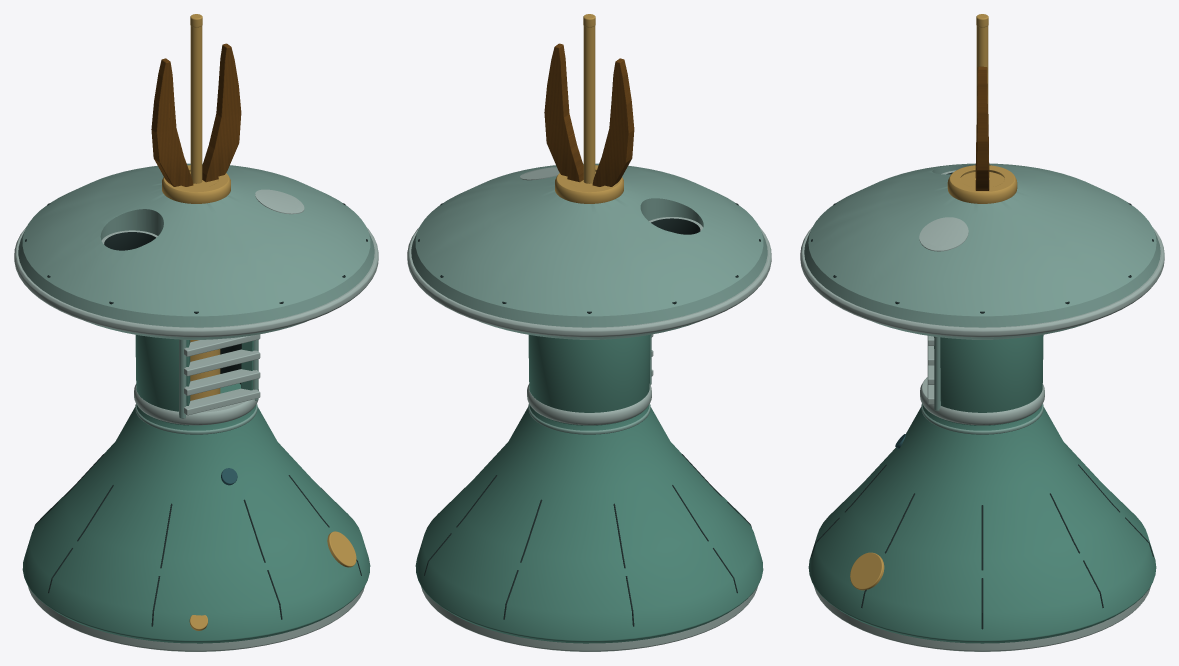
The picture shows the model from 3 angles, left to right: view 1: azimuth 30°, elevation 25°; view 2: azimuth 150°, elevation 25°; view 3: azimuth 270°, elevation 25°; orthographic projection.
Visible parts, largest first — view 1: CPU flared waisted foundation, CPU broad upper saucer, CPU saucer perimeter machined rim, CPU neck with actual grille opening, RI01 refined crown arm right, RI01 refined crown arm left, CPU foundation ground lip, CPU crown central conductor, CPU lower neck collar, CPU crown brass seating ring, CPU grille horizontal structural fin, CPU grille horizontal structural fin.002 (+8 smaller); view 2: CPU flared waisted foundation, CPU broad upper saucer, CPU neck with actual grille opening, CPU saucer perimeter machined rim, RI01 refined crown arm right, RI01 refined crown arm left, CPU foundation ground lip, CPU crown central conductor, CPU lower neck collar, CPU crown brass seating ring, CPU roof well inner sleeve, CPU foundation upper seam; view 3: CPU flared waisted foundation, CPU broad upper saucer, CPU neck with actual grille opening, CPU saucer perimeter machined rim, CPU foundation ground lip, CPU lower neck collar, CPU crown brass seating ring, RI01 refined crown arm right, CPU pale conformal roof service cap, CPU foundation circular service cap, CPU crown central conductor, CPU foundation upper seam.
Part boxes in pixels (x1=…): CPU flared waisted foundation: x1=22, y1=383, x2=370, y2=643; CPU broad upper saucer: x1=18, y1=163, x2=374, y2=339; CPU saucer perimeter machined rim: x1=14, y1=226, x2=378, y2=337; CPU neck with actual grille opening: x1=135, y1=335, x2=253, y2=425; RI01 refined crown arm right: x1=202, y1=43, x2=241, y2=182; RI01 refined crown arm left: x1=151, y1=58, x2=193, y2=186; CPU foundation ground lip: x1=28, y1=586, x2=364, y2=651; CPU crown central conductor: x1=190, y1=26, x2=202, y2=183; CPU lower neck collar: x1=134, y1=384, x2=258, y2=425; CPU crown brass seating ring: x1=162, y1=165, x2=230, y2=203; CPU grille horizontal structural fin: x1=184, y1=388, x2=260, y2=415; CPU grille horizontal structural fin.002: x1=184, y1=349, x2=260, y2=376; CPU flared waisted foundation: x1=415, y1=405, x2=763, y2=643; CPU broad upper saucer: x1=411, y1=163, x2=767, y2=339; CPU neck with actual grille opening: x1=528, y1=334, x2=650, y2=425; CPU saucer perimeter machined rim: x1=407, y1=226, x2=771, y2=337; RI01 refined crown arm right: x1=544, y1=43, x2=583, y2=182; RI01 refined crown arm left: x1=592, y1=58, x2=634, y2=186; CPU foundation ground lip: x1=421, y1=586, x2=757, y2=651; CPU crown central conductor: x1=583, y1=26, x2=595, y2=183; CPU lower neck collar: x1=527, y1=384, x2=651, y2=425; CPU crown brass seating ring: x1=555, y1=165, x2=623, y2=203; CPU roof well inner sleeve: x1=649, y1=217, x2=702, y2=234; CPU foundation upper seam: x1=528, y1=404, x2=650, y2=434; CPU flared waisted foundation: x1=808, y1=404, x2=1156, y2=643; CPU broad upper saucer: x1=804, y1=163, x2=1160, y2=339; CPU neck with actual grille opening: x1=934, y1=334, x2=1043, y2=425; CPU saucer perimeter machined rim: x1=800, y1=227, x2=1164, y2=337; CPU foundation ground lip: x1=813, y1=585, x2=1151, y2=651; CPU lower neck collar: x1=920, y1=377, x2=1044, y2=425; CPU crown brass seating ring: x1=947, y1=165, x2=1017, y2=203; RI01 refined crown arm right: x1=975, y1=66, x2=989, y2=190; CPU pale conformal roof service cap: x1=919, y1=217, x2=968, y2=251; CPU foundation circular service cap: x1=850, y1=552, x2=884, y2=590; CPU crown central conductor: x1=976, y1=26, x2=988, y2=139; CPU foundation upper seam: x1=921, y1=403, x2=1043, y2=434.
Bounding box in the file's own units: 2.37 × 4.07 × 2.37.
Materials: 7 (1 with a texture image).
